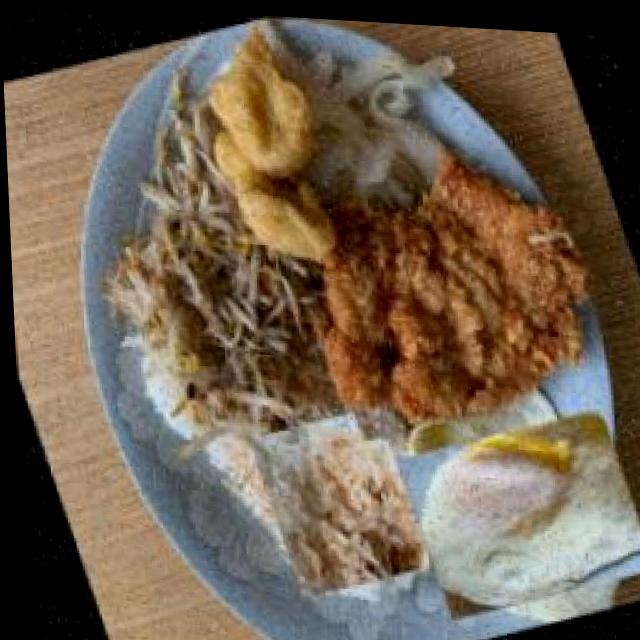chicken_nuggets: (189, 42, 352, 272)
fried_chicken: (279, 126, 625, 451)
fried_eggs: (398, 383, 640, 637)
mung_bean_sprouts: (116, 123, 315, 442)
rice: (243, 396, 433, 604)
